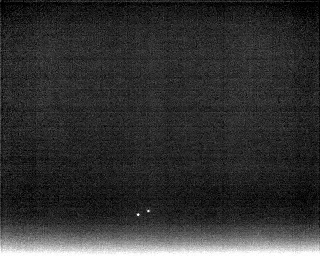BIRD: (145, 206, 152, 215)
